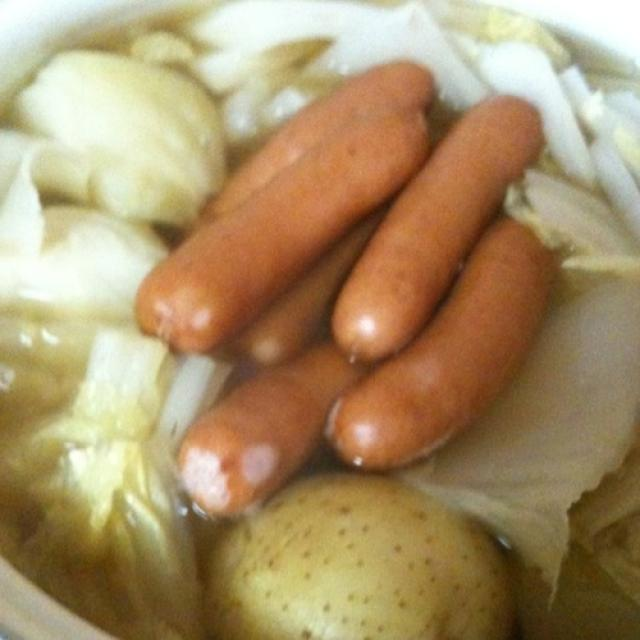汤锅炖物: (5, 5, 616, 634)
